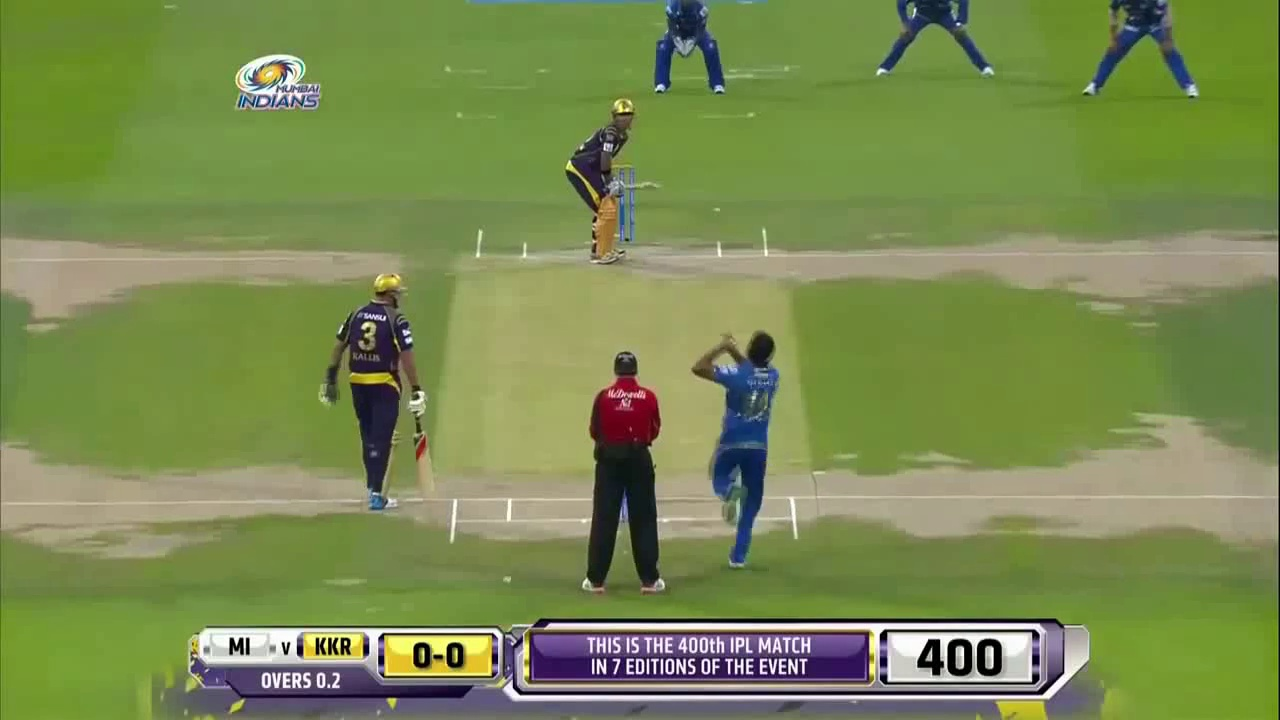bat: (412, 420, 434, 498)
